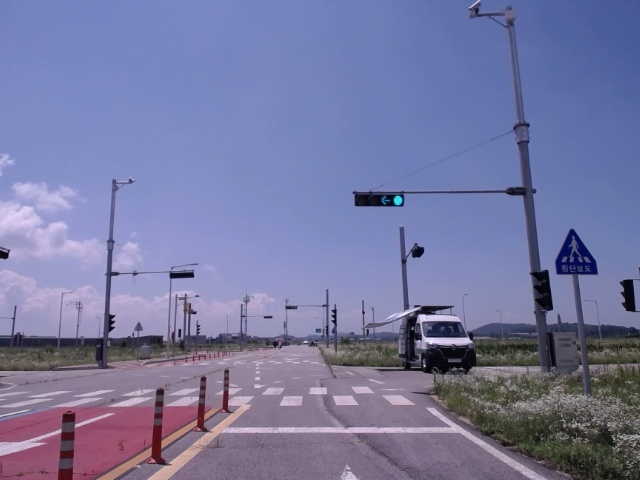all_green_4: (354, 192, 406, 209)
